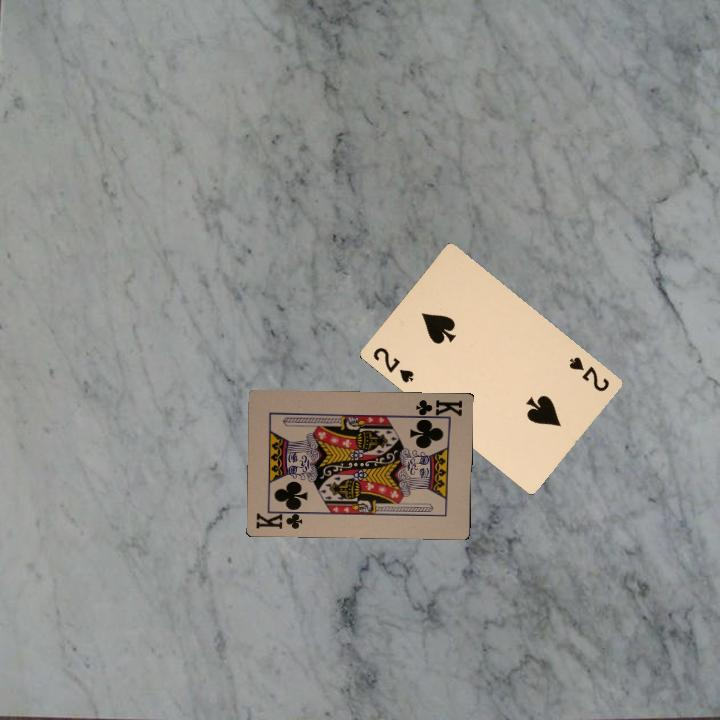2s: (369, 343, 416, 385), (565, 353, 612, 394)
Kc: (410, 395, 465, 421), (252, 507, 308, 531)
